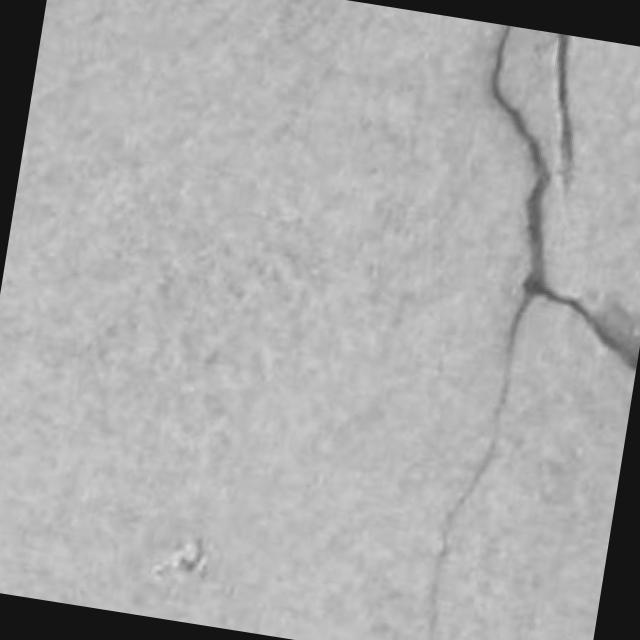crack: (427, 25, 639, 639), (489, 25, 550, 286), (523, 278, 639, 369), (554, 34, 574, 187)
